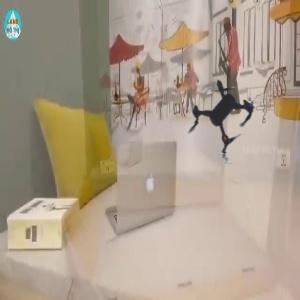drone: (148, 40, 294, 186)
